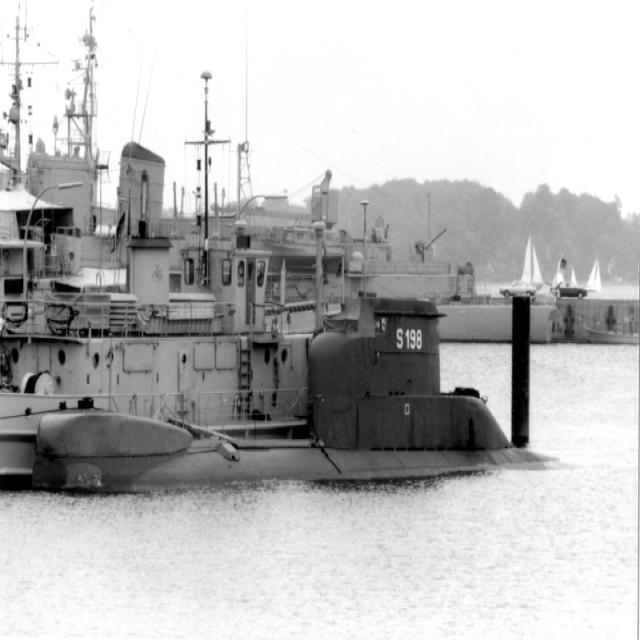submarine: (37, 298, 570, 473)
